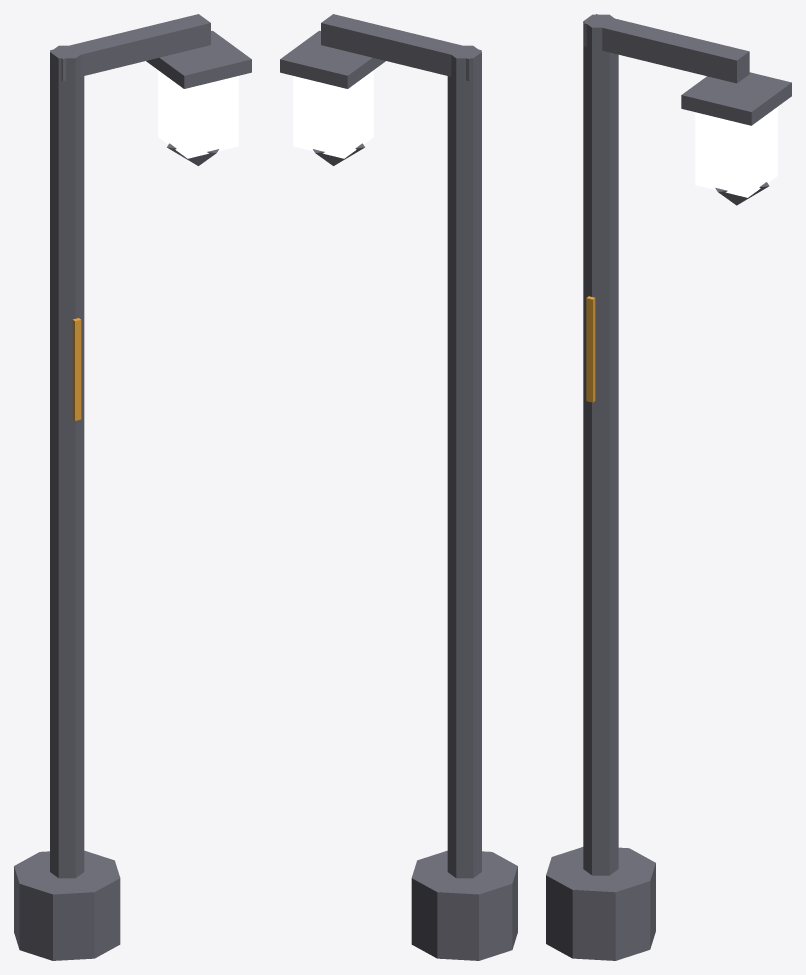
The model's file is LampPost.fbx.
3 views of the same model, side by side, from view 1: azimuth 30°, elevation 25°; view 2: azimuth 150°, elevation 25°; view 3: azimuth 330°, elevation 25° (orthographic). The views are drawn at different scales.
Visible parts, largest first — view 1: LampPost; view 2: LampPost; view 3: LampPost.
Boxes of the visible parts, x1,y1,x2,y2 form: LampPost: (14, 14, 251, 960); LampPost: (280, 14, 517, 960); LampPost: (546, 14, 791, 960).
Size of the model in its own units: 1 by 4 by 0.45.
